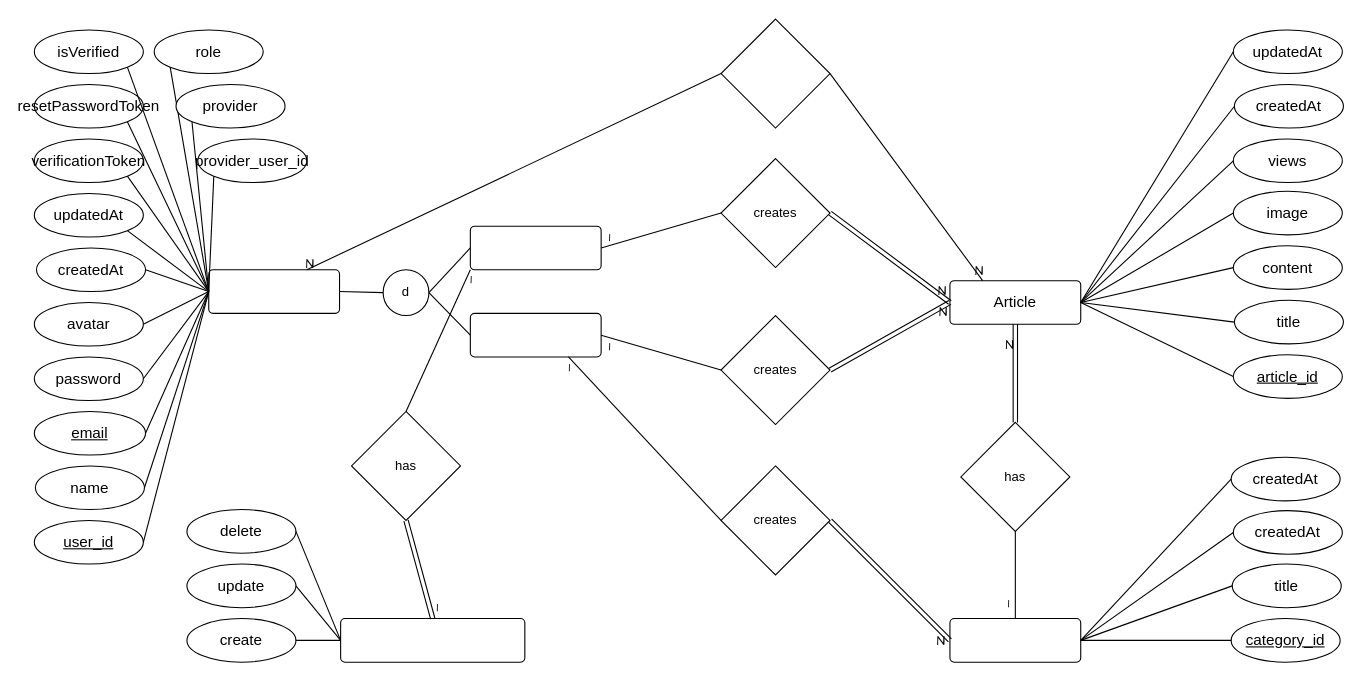
Image size: 1363x681. Some labels were removed from this diagram. Each missing label, with the box of its shape:
Admin: (469, 312, 601, 357)
Author: (469, 225, 601, 270)
Author_Permissions: (340, 617, 525, 662)
Category: (949, 617, 1081, 662)
saves: (720, 18, 830, 128)
User: (208, 269, 340, 313)
